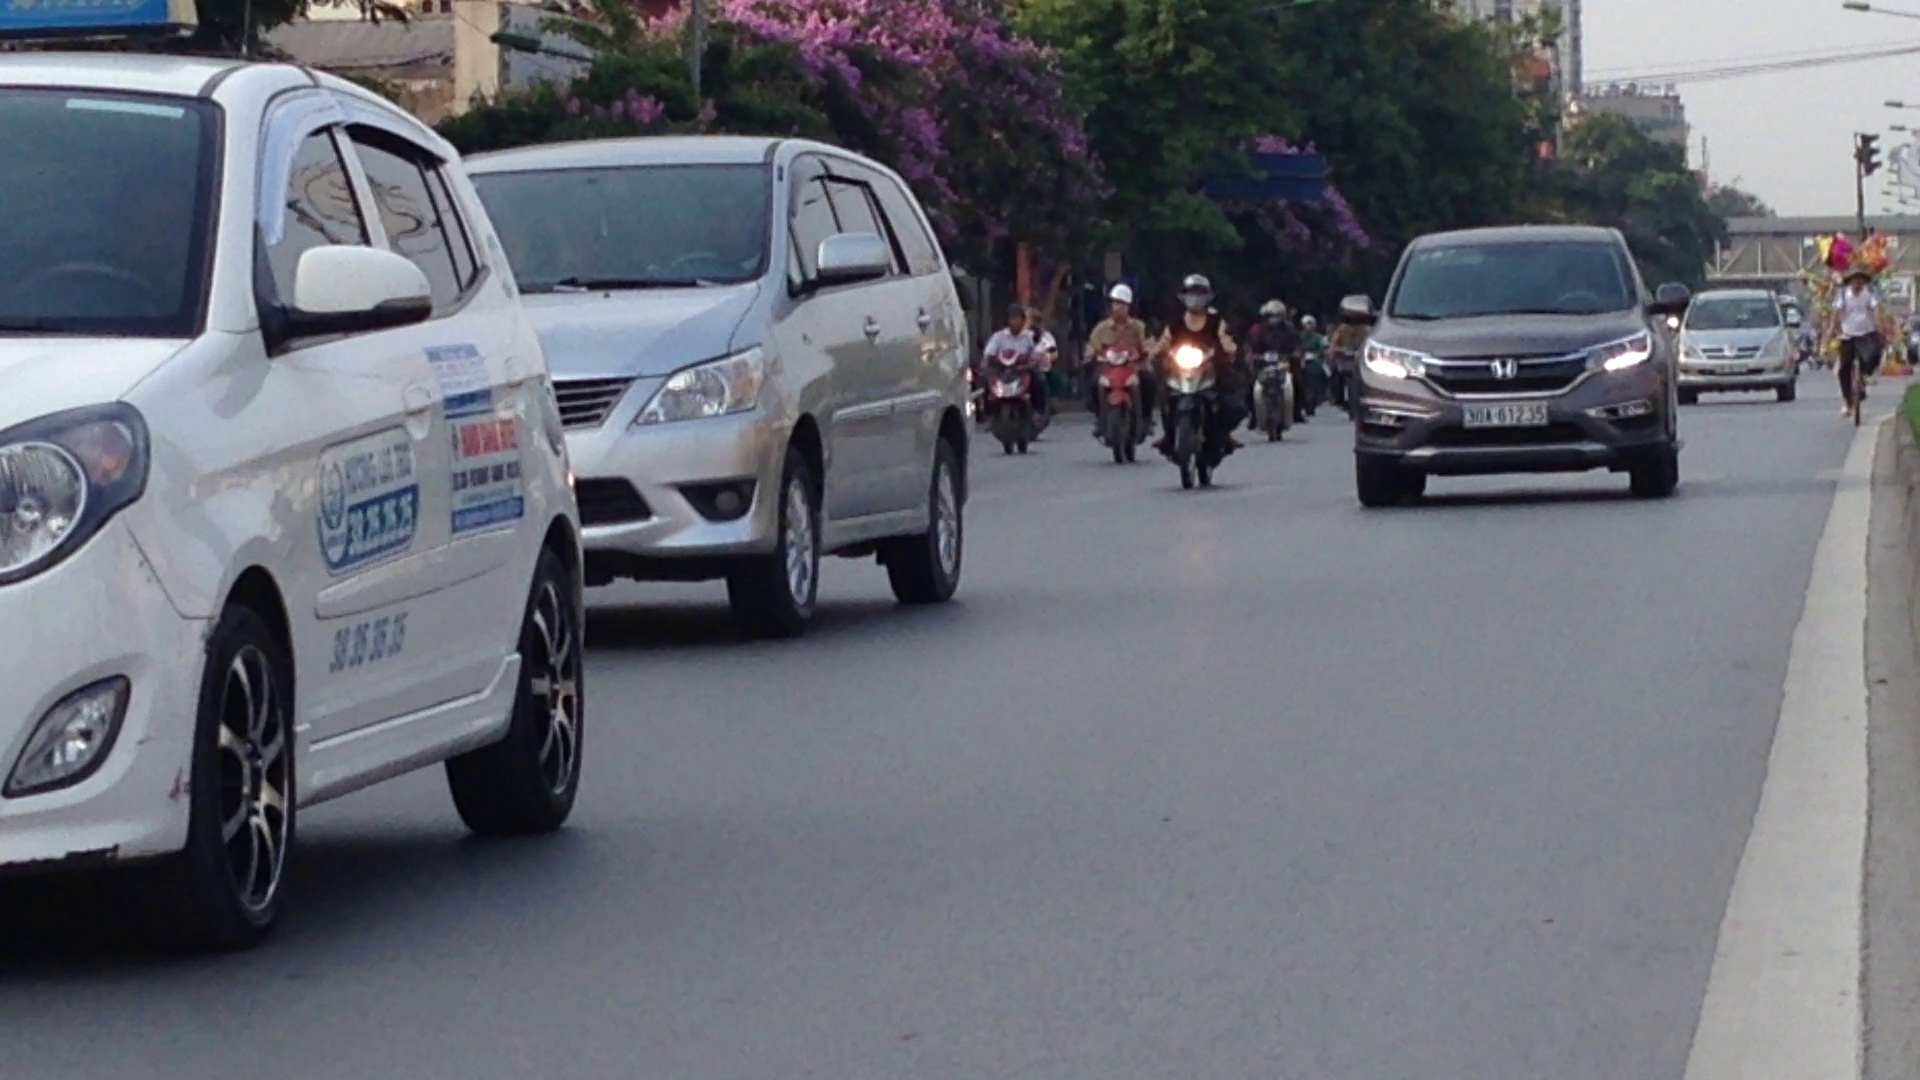vehicle-plate: (1461, 398, 1548, 429)
